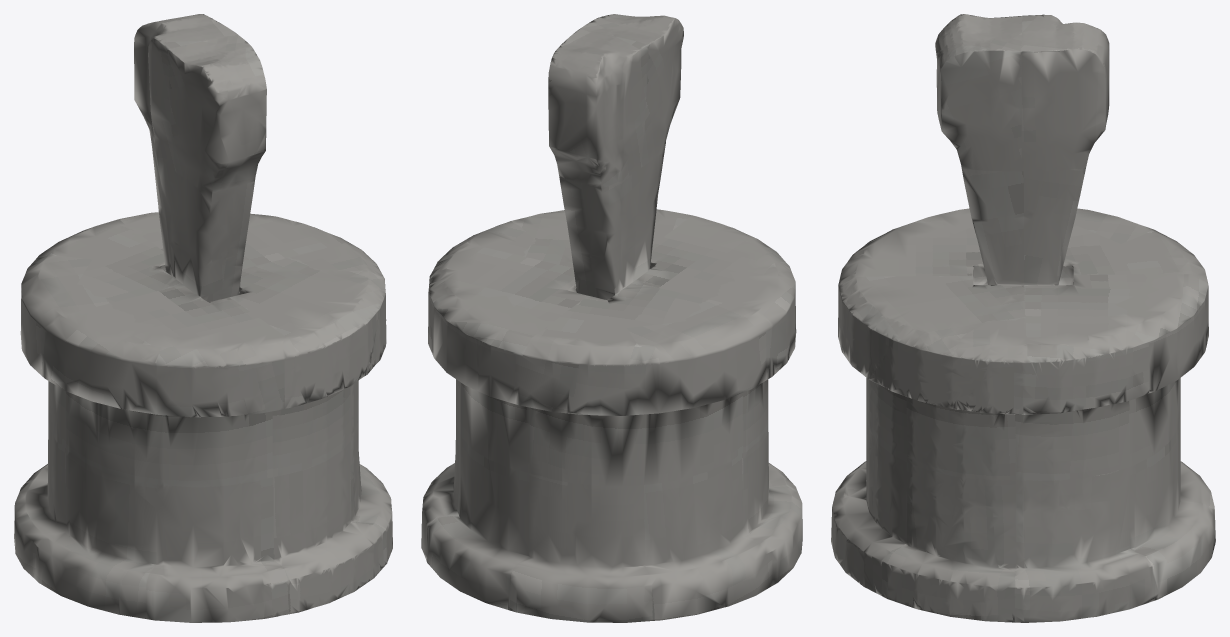
The model's file is s_name_stamp.glb.
3 views of the same model, side by side, from view 1: azimuth 30°, elevation 25°; view 2: azimuth 150°, elevation 25°; view 3: azimuth 270°, elevation 25° (orthographic).
Visible parts, largest first — view 1: tripo_node_9c0074a3-503f-45fa-b07b-f8b591a6fe98; view 2: tripo_node_9c0074a3-503f-45fa-b07b-f8b591a6fe98; view 3: tripo_node_9c0074a3-503f-45fa-b07b-f8b591a6fe98.
Boxes of the visible parts, x1,y1,x2,y2 form: tripo_node_9c0074a3-503f-45fa-b07b-f8b591a6fe98: [14, 14, 392, 622]; tripo_node_9c0074a3-503f-45fa-b07b-f8b591a6fe98: [421, 14, 802, 622]; tripo_node_9c0074a3-503f-45fa-b07b-f8b591a6fe98: [831, 14, 1215, 622].
Size of the model in its own units: 0.6809 by 1 by 0.6817.
Materials: 1 (1 with a texture image).
